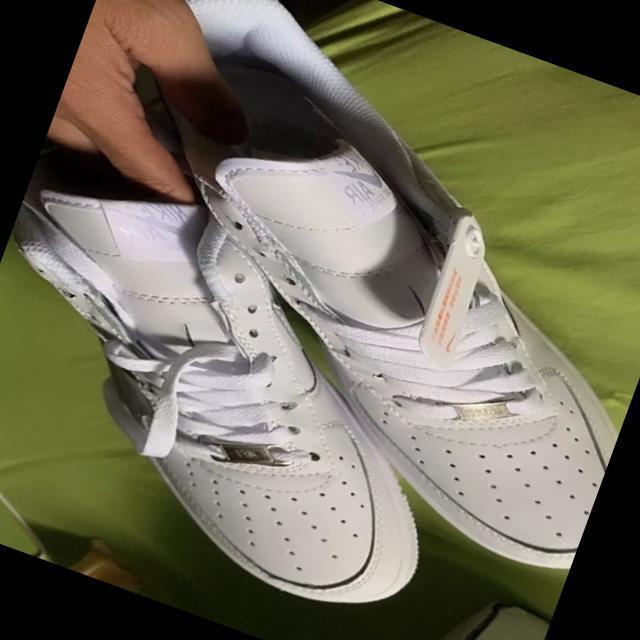nike fake air force: (6, 0, 640, 581), (0, 134, 514, 634)
